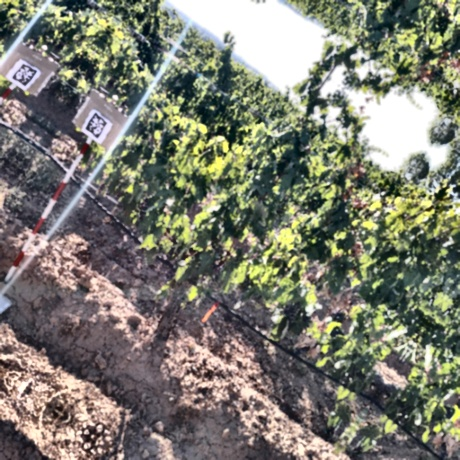QR: (83, 111, 110, 139)
